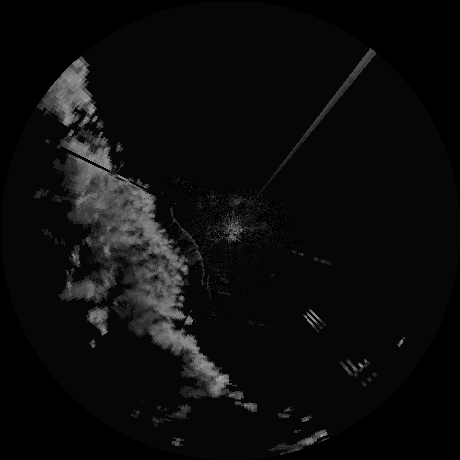frontgust: (192, 240, 206, 288), (170, 207, 191, 237)
